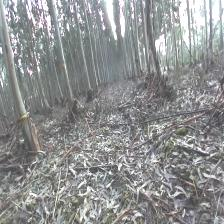trunk: (0, 2, 40, 152), (48, 5, 74, 104), (145, 4, 164, 80), (75, 15, 91, 92)
